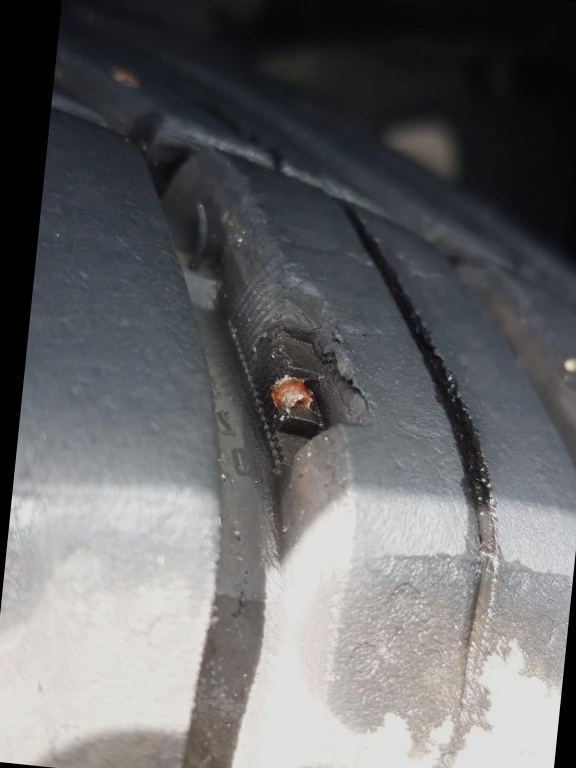temoin:80: (206, 250, 395, 501)
